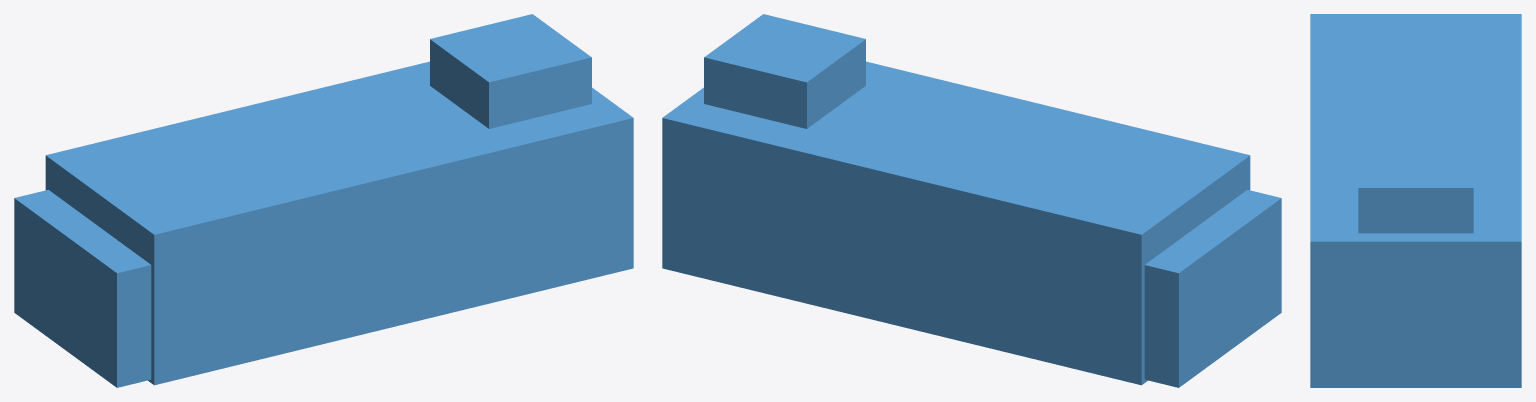
Rendered from vehicle.gltf.
The picture shows the model from 3 angles, left to right: view 1: azimuth 30°, elevation 25°; view 2: azimuth 150°, elevation 25°; view 3: azimuth 270°, elevation 25°; orthographic projection. The views are drawn at different scales.
Size of the model in its own units: 15 by 5.5 by 5.5.
